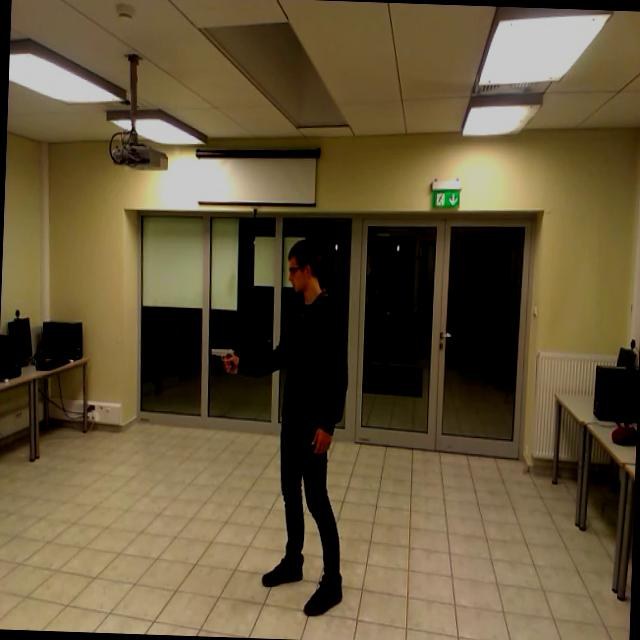handgun: (200, 338, 244, 383)
